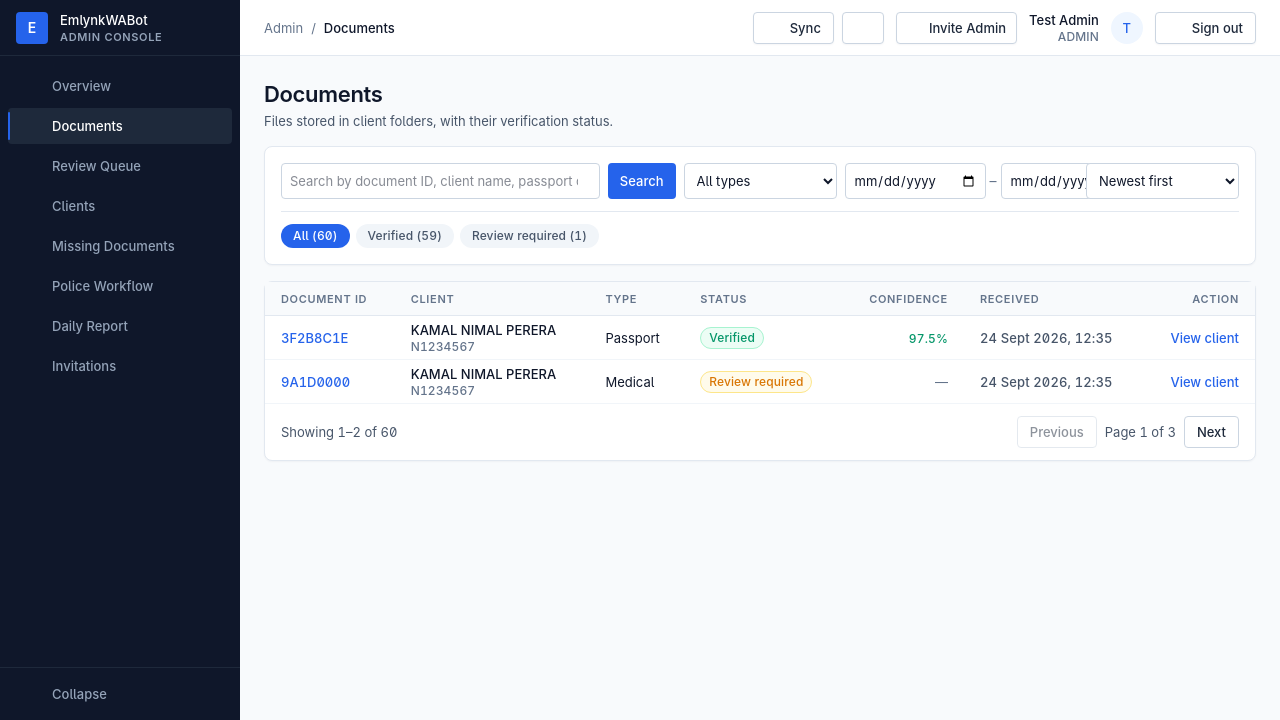
Test case: Documents › pagination: Next and Previous request the neighbouring pages
This screenshot has width=1280, height=720.
Expected: the text "Page 1 of 3" is shown, [1105,423,1176,441]
Expected: the button "Previous" is disabled, [1017,416,1097,448]
What coordinates should you click on to do the following:
click the button "Next"
I would click on:
 (1211, 432)
Its box is [1184,416,1239,448].
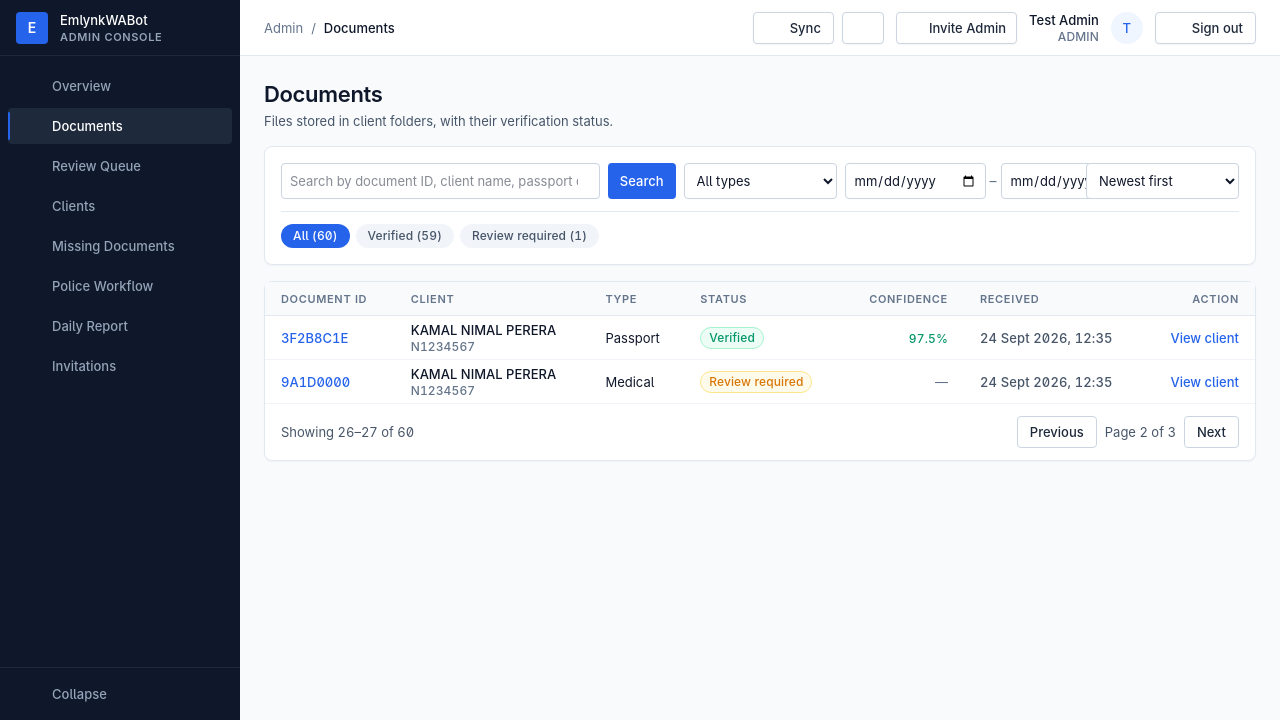
Expected: the text "Page 2 of 3" is shown, [1105,423,1176,441]
What coordinates should you click on to do the following:
click the button "Previous"
I would click on:
 (1057, 432)
Its box is [1017,416,1097,448].
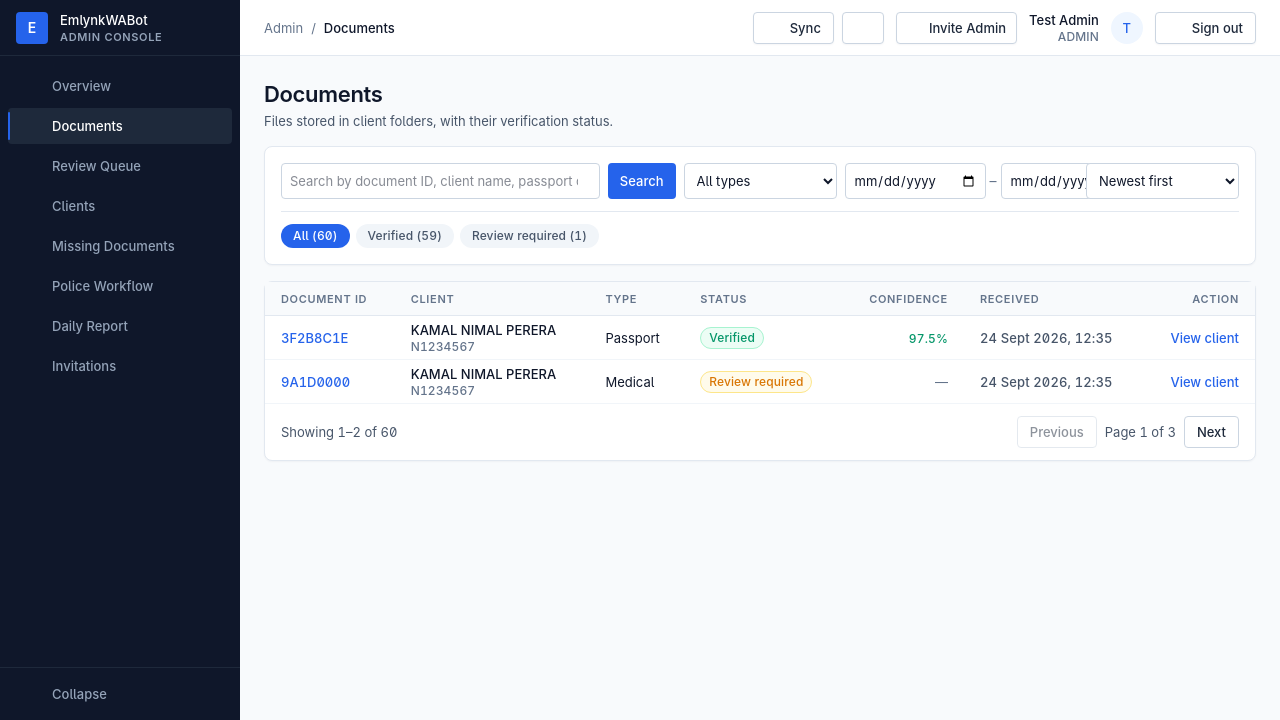
Expected: the text "Page 1 of 3" is shown, [1105,423,1176,441]
